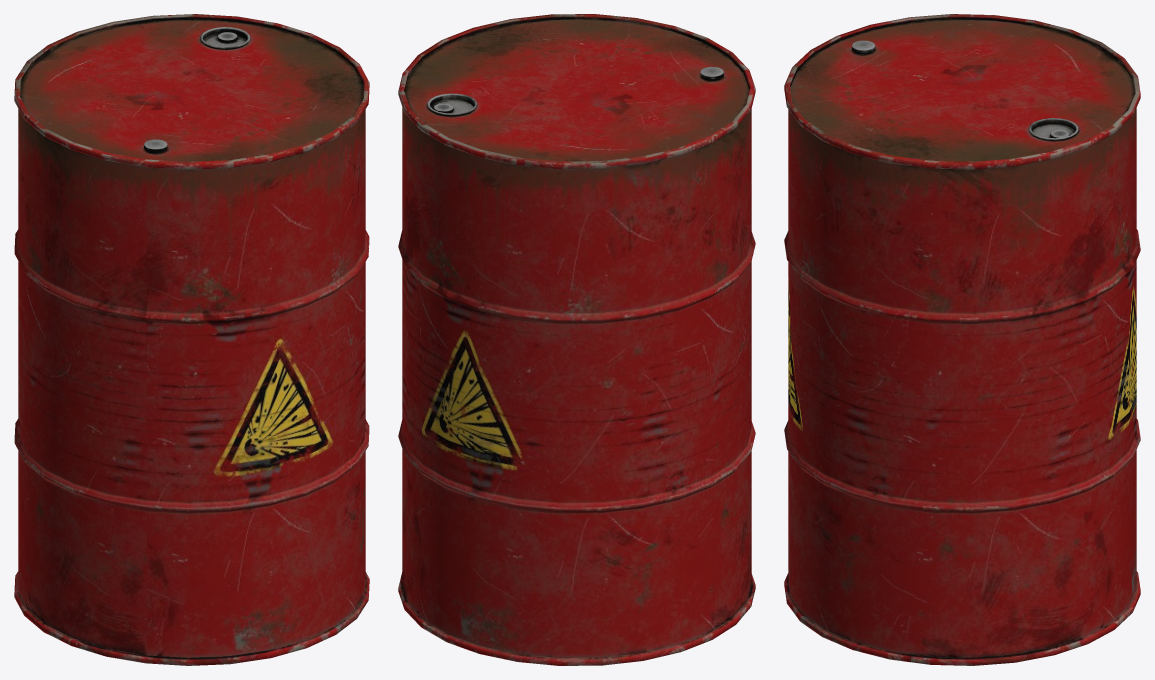
Rendered from barrel.glb.
3 views of the same model, side by side, from view 1: azimuth 30°, elevation 25°; view 2: azimuth 150°, elevation 25°; view 3: azimuth 270°, elevation 25° (orthographic).
Parts seen in each view (by area): view 1: Barrel_01; view 2: Barrel_01; view 3: Barrel_01.
Part boxes in pixels (<box>): Barrel_01: <box>14,14,369,665</box>; Barrel_01: <box>398,14,755,665</box>; Barrel_01: <box>784,14,1140,665</box>.
Size of the model in its own units: 0.563 by 0.88 by 0.563.
Materials: 1 (1 with a texture image).
